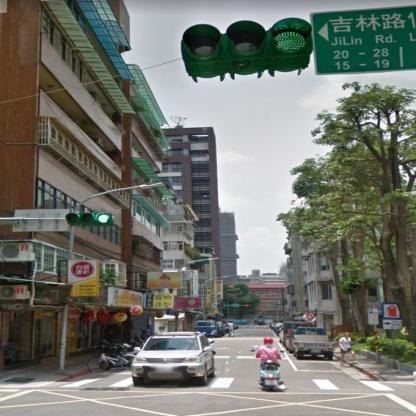Green Light: (180, 21, 310, 63), (64, 209, 114, 225)
